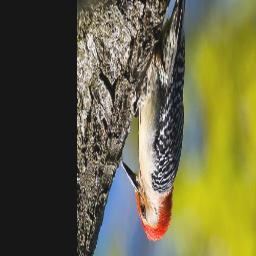Woodpecker: (118, 0, 186, 242)
